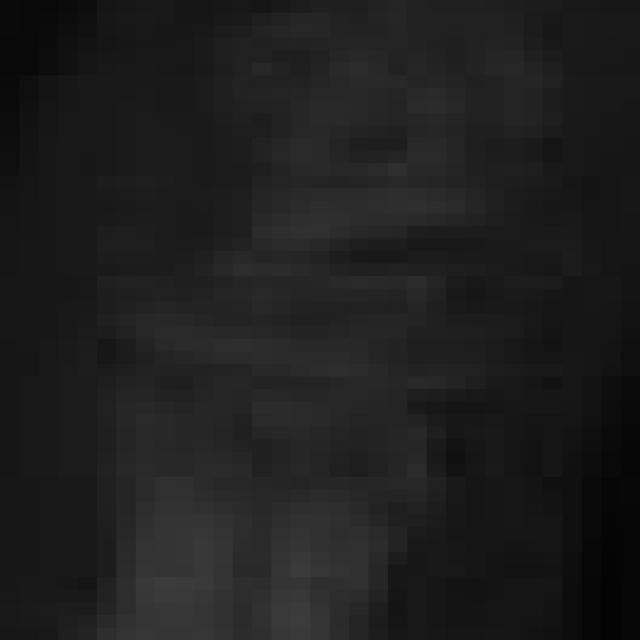fracture: (16, 3, 639, 640)
